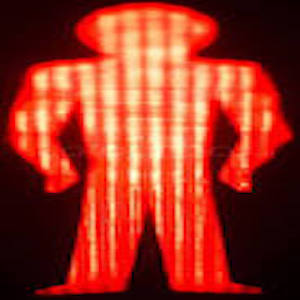red: (12, 2, 279, 294)
